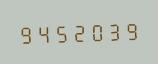five: (51, 20, 67, 44)
four: (34, 21, 50, 44)
nine: (119, 18, 135, 42), (17, 22, 33, 45)
three: (102, 19, 118, 42)
two: (68, 20, 84, 43)
zero: (85, 19, 101, 43)
